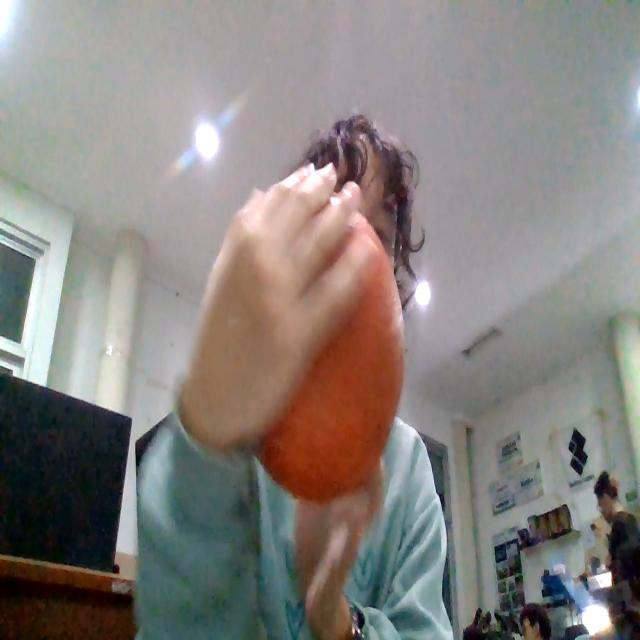ball: (260, 206, 405, 500)
